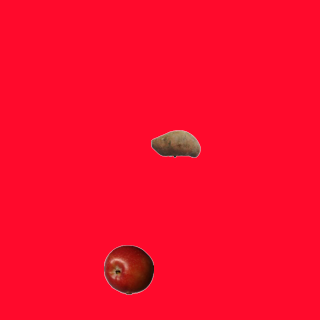Apple Braeburn: (103, 244, 153, 294)
Potato Sweet: (150, 118, 200, 168)
